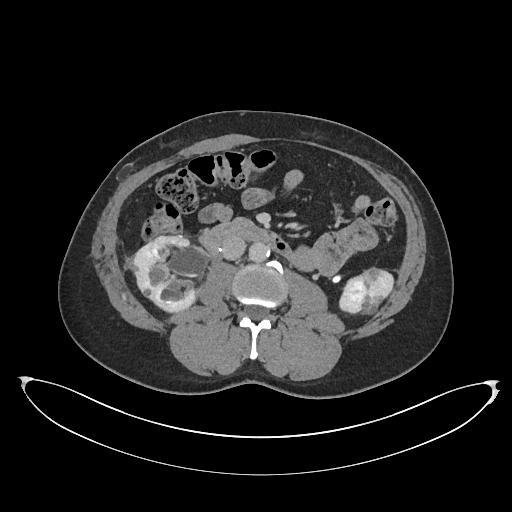Lesion: (355, 301, 381, 320)
